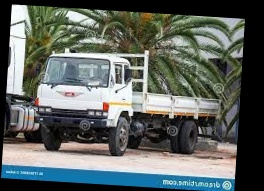truck: (30, 42, 223, 162)
